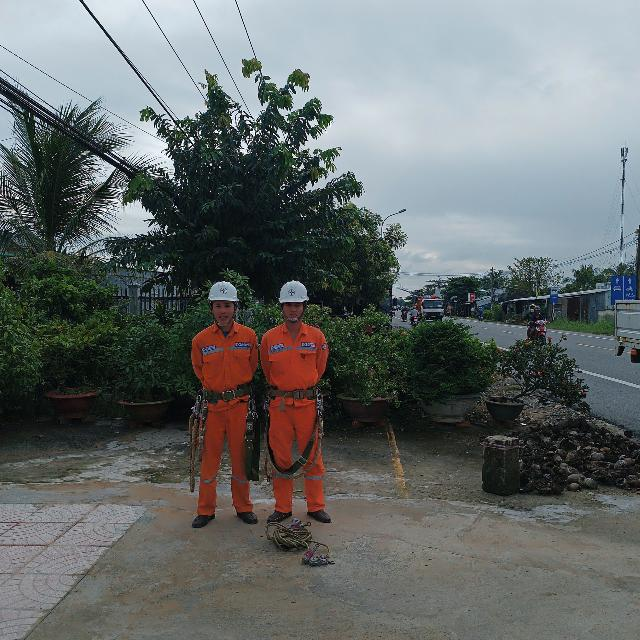harness: (266, 380, 325, 408), (195, 382, 255, 406)
helmet: (203, 273, 238, 308), (275, 280, 313, 306)
shoes: (261, 506, 295, 526), (305, 505, 337, 526), (187, 509, 217, 531), (235, 509, 259, 528)
